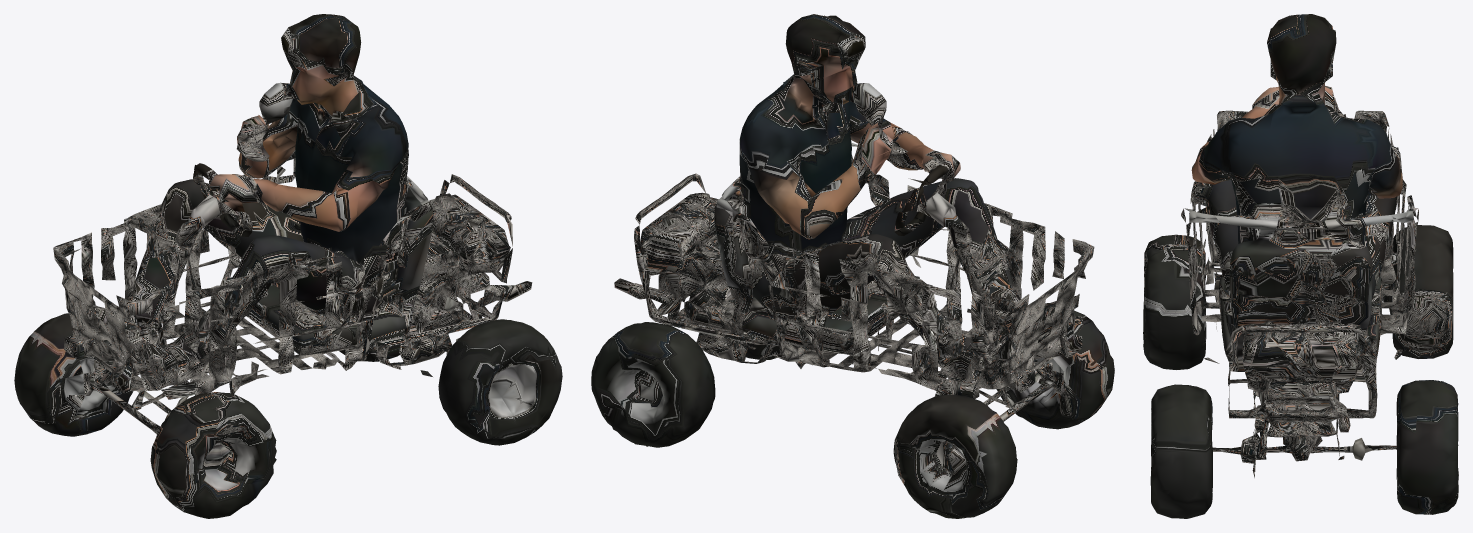
The model's file is cart-far.glb.
3 renders of one model, left to right at view 1: azimuth 30°, elevation 25°; view 2: azimuth 150°, elevation 25°; view 3: azimuth 270°, elevation 25°, orthographic. The views are drawn at different scales.
Visible parts, largest first — view 1: tripo_node_3f963b93-fca0-44f4-afa4-79b958a74089; view 2: tripo_node_3f963b93-fca0-44f4-afa4-79b958a74089; view 3: tripo_node_3f963b93-fca0-44f4-afa4-79b958a74089.
Part boxes in pixels (left/top/right/bottom): tripo_node_3f963b93-fca0-44f4-afa4-79b958a74089: left=14, top=14, right=562, bottom=518; tripo_node_3f963b93-fca0-44f4-afa4-79b958a74089: left=591, top=14, right=1114, bottom=518; tripo_node_3f963b93-fca0-44f4-afa4-79b958a74089: left=1143, top=14, right=1458, bottom=518.
Size of the model in its own units: 0.9787 by 0.8852 by 0.5854.
1 material, 1 textured.
